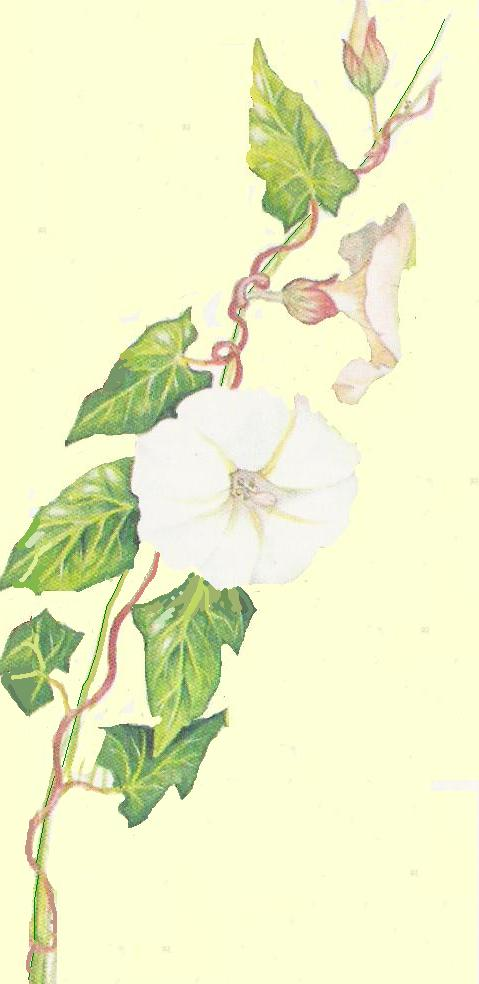haagwinde: (124, 377, 370, 602), (214, 199, 463, 407), (237, 32, 364, 255), (130, 566, 262, 759), (50, 297, 213, 450), (2, 451, 141, 599), (317, 1, 435, 158), (2, 605, 91, 719)
